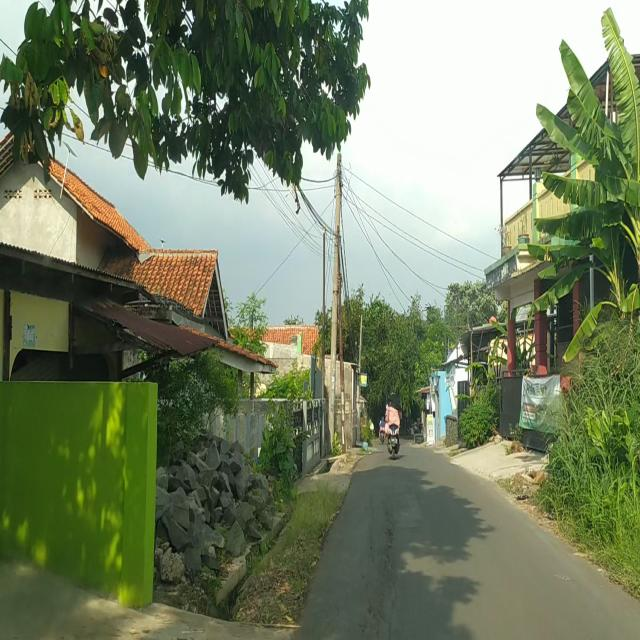Drain Hole: (362, 493, 404, 640)
